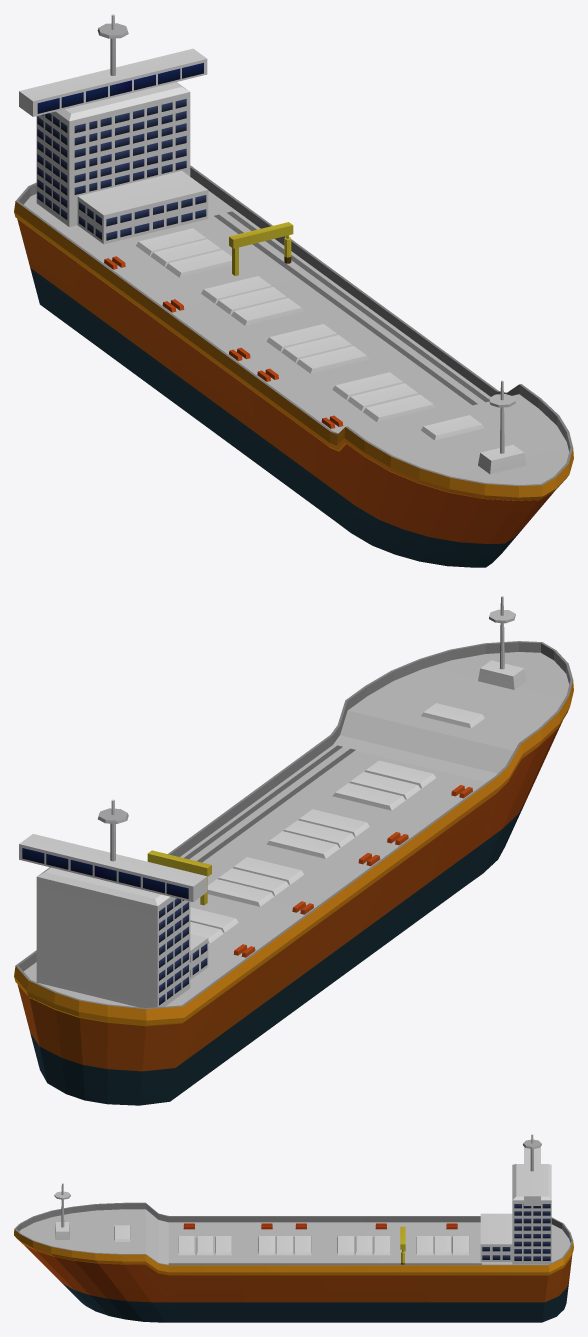
Rendered from barge.gltf.
3 views of the same model, one above another, from view 1: azimuth 30°, elevation 25°; view 2: azimuth 150°, elevation 25°; view 3: azimuth 270°, elevation 25° (orthographic). The views are drawn at different scales.
Parts seen in each view (by area): view 1: barge; view 2: barge; view 3: barge.
Boxes of the visible parts, x1,y1,x2,y2 form: barge: (14,14,573,567); barge: (14,596,573,1105); barge: (14,1134,573,1322).
Size of the model in its own units: 0.9607 by 1.44 by 4.33.
Materials: 1 (1 with a texture image).
